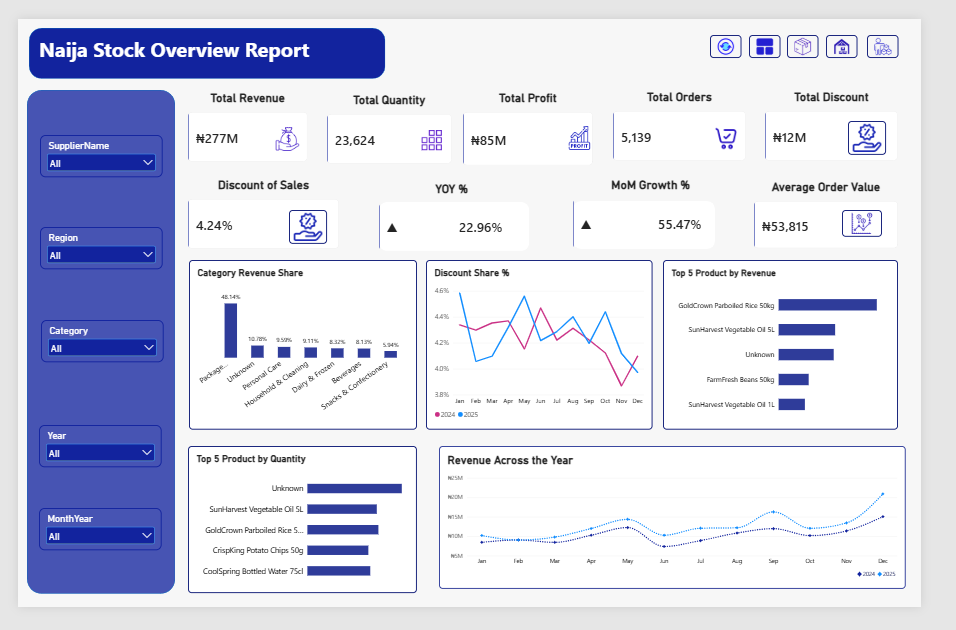

Layout of this report page (visuals, bound fields, positions):
{"tool":"powerbi","page":{"name":"Overview Page","canvas":[1920,1250],"ordinal":0},"visuals":[{"type":"shape","box":[19.6,150,315.2,1071.7],"z":0},{"type":"shape","box":[23.3,18.6,758.1,108.1],"z":1000},{"type":"slicer","fields":{"Values":["Dim_Date.Year"]},"box":[45.7,863,261.2,90.5],"z":2000},{"type":"lineChart","title":"Revenue Across the Year","fields":{"Category":["Dim_Date.Month Name"],"Series":["Dim_Date.Year"],"Y":["Overview_Measure_Table.Total Revenue"]},"box":[895.7,908.7,993.5,304.3],"z":3000},{"type":"lineChart","title":"Discount Share %","fields":{"Category":["Dim_Date.Month Name"],"Series":["Dim_Date.Year"],"Y":["Overview_Measure_Table.Discount Share %"]},"box":[867.9,512.5,482.1,360.7],"z":4000},{"type":"clusteredColumnChart","title":"Category Revenue Share","fields":{"Category":["Dim__Product.Category"],"Y":["Overview_Measure_Table.Revenue Share %"]},"box":[363,513,484.8,360.9],"z":5000},{"type":"clusteredBarChart","title":"Top 5 Product by Revenue","fields":{"Category":["Dim__Product.ProductName"],"Y":["Overview_Measure_Table.Top 5 Product Revenue"]},"box":[1371.7,513,500,360.9],"z":6000},{"type":"clusteredBarChart","title":"Top 5 Product by Quantity","fields":{"Category":["Dim__Product.ProductName"],"Y":["Overview_Measure_Table.Top 5 Product Quantity"]},"box":[360.9,908.7,487,313],"z":7000},{"type":"textbox","box":[45.3,34.9,611.6,76.7],"z":8000},{"type":"cardVisual","title":"Total Quantity","fields":{"Data":["Overview_Measure_Table.Total Quantity"]},"box":[656.5,156.5,265.2,150],"z":9000},{"type":"cardVisual","title":"Total Profit","fields":{"Data":["Overview_Measure_Table.Total Profit"]},"box":[947.8,152.2,276.1,158.7],"z":10000},{"type":"cardVisual","title":"Total Orders","fields":{"Data":["Overview_Measure_Table.Total Number of Orders"]},"box":[1265.2,150,282.6,150],"z":11000},{"type":"cardVisual","title":"Total Revenue","fields":{"Data":["Overview_Measure_Table.Total Revenue"]},"box":[360.9,152.2,254.3,150],"z":12000},{"type":"cardVisual","title":"Total Discount","fields":{"Data":["Overview_Measure_Table.Total Discount"]},"box":[1589.1,150,282.6,150],"z":13000},{"type":"slicer","fields":{"Values":["Dim_Supplier.SupplierName"]},"box":[47.8,247.8,261.2,90.5],"z":14000},{"type":"slicer","fields":{"Values":["Dim__Product.Category"]},"box":[48.2,641.1,261.2,90.5],"z":15000},{"type":"slicer","fields":{"Values":["Dim_Warehouse.Region"]},"box":[47.8,443.5,261.2,90.5],"z":16000},{"type":"cardVisual","title":"Discount of Sales","fields":{"Data":["Overview_Measure_Table.Discount Share %"]},"box":[360.9,339.1,321.7,150],"z":17000},{"type":"image","box":[1635.7,33.9,66.5,49.2],"z":18000},{"type":"image","box":[1719.6,34.8,66.5,49.2],"z":19000},{"type":"image","box":[1806.5,34.8,66.5,49.2],"z":20000},{"type":"image","box":[1555.4,33.9,66.5,49.2],"z":21000},{"type":"image","box":[1473.2,33.9,66.5,49.2],"z":22000},{"type":"image","box":[847.8,237,66.5,42.6],"z":23000},{"type":"image","box":[545.7,230.4,57.2,50.5],"z":24000},{"type":"image","box":[1165.2,228.3,57.2,50.5],"z":25000},{"type":"image","box":[1472.3,225.5,68.1,57.4],"z":26000},{"type":"shape","box":[767.4,389.1,319.6,104.3],"z":27000},{"type":"cardVisual","title":"YOY %","fields":{"Data":["Overview_Measure_Table.MoM Icon","Overview_Measure_Table.YoY Growth %"]},"box":[767.4,347.8,308.7,145.7],"z":28000},{"type":"shape","box":[1180.4,387,302.2,102.2],"z":29000},{"type":"cardVisual","title":"MoM Growth %","fields":{"Data":["Overview_Measure_Table.MoM Icon","Overview_Measure_Table.Latest Month MoM %"]},"box":[1180.4,339.1,330.4,150],"z":30000},{"type":"cardVisual","title":"Average Order Value","fields":{"Data":["Overview_Measure_Table.Average Order Value"]},"box":[1565.2,343.5,306.5,145.7],"z":31000},{"type":"slicer","fields":{"Values":["Dim_Date.MonthYear"]},"box":[45.7,1041.3,261.2,90.5],"z":32000},{"type":"image","box":[1753.2,406.4,85.1,57.4],"z":33000},{"type":"image","box":[576.6,406.4,80.9,72.3],"z":34000},{"type":"image","box":[1766,217,80.9,72.3],"z":35000}]}

Visuals, with their boxes in screenshot pixels (x1, y1, x2, y2), scaled from the page's 1920x1250 canvas onto the 956x630 screenshot:
shape: {"x1": 10, "y1": 76, "x2": 167, "y2": 616}
shape: {"x1": 12, "y1": 9, "x2": 389, "y2": 64}
slicer - Dim_Date.Year: {"x1": 23, "y1": 435, "x2": 153, "y2": 481}
"Revenue Across the Year" lineChart: {"x1": 446, "y1": 458, "x2": 941, "y2": 611}
"Discount Share %" lineChart: {"x1": 432, "y1": 258, "x2": 672, "y2": 440}
"Category Revenue Share" clusteredColumnChart: {"x1": 181, "y1": 259, "x2": 422, "y2": 440}
"Top 5 Product by Revenue" clusteredBarChart: {"x1": 683, "y1": 259, "x2": 932, "y2": 440}
"Top 5 Product by Quantity" clusteredBarChart: {"x1": 180, "y1": 458, "x2": 422, "y2": 616}
textbox: {"x1": 23, "y1": 18, "x2": 327, "y2": 56}
"Total Quantity" cardVisual: {"x1": 327, "y1": 79, "x2": 459, "y2": 154}
"Total Profit" cardVisual: {"x1": 472, "y1": 77, "x2": 609, "y2": 157}
"Total Orders" cardVisual: {"x1": 630, "y1": 76, "x2": 771, "y2": 151}
"Total Revenue" cardVisual: {"x1": 180, "y1": 77, "x2": 306, "y2": 152}
"Total Discount" cardVisual: {"x1": 791, "y1": 76, "x2": 932, "y2": 151}
slicer - Dim_Supplier.SupplierName: {"x1": 24, "y1": 125, "x2": 154, "y2": 171}
slicer - Dim__Product.Category: {"x1": 24, "y1": 323, "x2": 154, "y2": 369}
slicer - Dim_Warehouse.Region: {"x1": 24, "y1": 224, "x2": 154, "y2": 269}
"Discount of Sales" cardVisual: {"x1": 180, "y1": 171, "x2": 340, "y2": 247}
image: {"x1": 814, "y1": 17, "x2": 848, "y2": 42}
image: {"x1": 856, "y1": 18, "x2": 889, "y2": 42}
image: {"x1": 899, "y1": 18, "x2": 933, "y2": 42}
image: {"x1": 774, "y1": 17, "x2": 808, "y2": 42}
image: {"x1": 734, "y1": 17, "x2": 767, "y2": 42}
image: {"x1": 422, "y1": 119, "x2": 455, "y2": 141}
image: {"x1": 272, "y1": 116, "x2": 300, "y2": 142}
image: {"x1": 580, "y1": 115, "x2": 609, "y2": 141}
image: {"x1": 733, "y1": 114, "x2": 767, "y2": 143}
shape: {"x1": 382, "y1": 196, "x2": 541, "y2": 249}
"YOY %" cardVisual: {"x1": 382, "y1": 175, "x2": 536, "y2": 249}
shape: {"x1": 588, "y1": 195, "x2": 738, "y2": 247}
"MoM Growth %" cardVisual: {"x1": 588, "y1": 171, "x2": 752, "y2": 247}
"Average Order Value" cardVisual: {"x1": 779, "y1": 173, "x2": 932, "y2": 247}
slicer - Dim_Date.MonthYear: {"x1": 23, "y1": 525, "x2": 153, "y2": 570}
image: {"x1": 873, "y1": 205, "x2": 915, "y2": 234}
image: {"x1": 287, "y1": 205, "x2": 327, "y2": 241}
image: {"x1": 879, "y1": 109, "x2": 920, "y2": 146}
